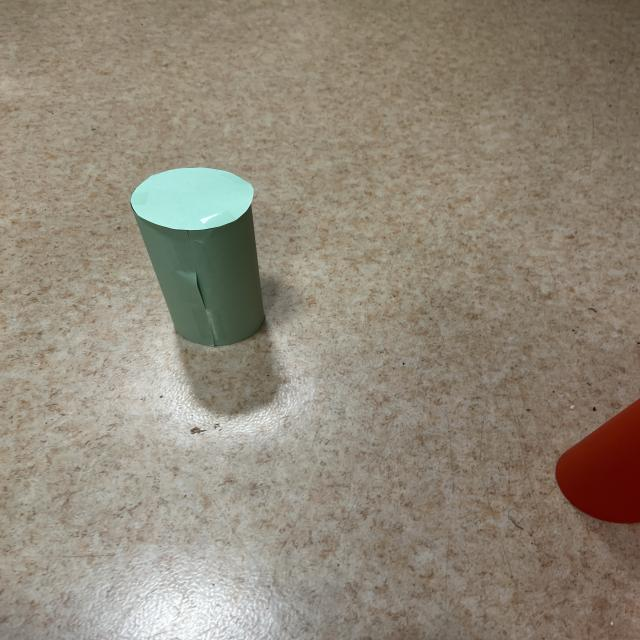meta: (131, 168, 264, 347)
